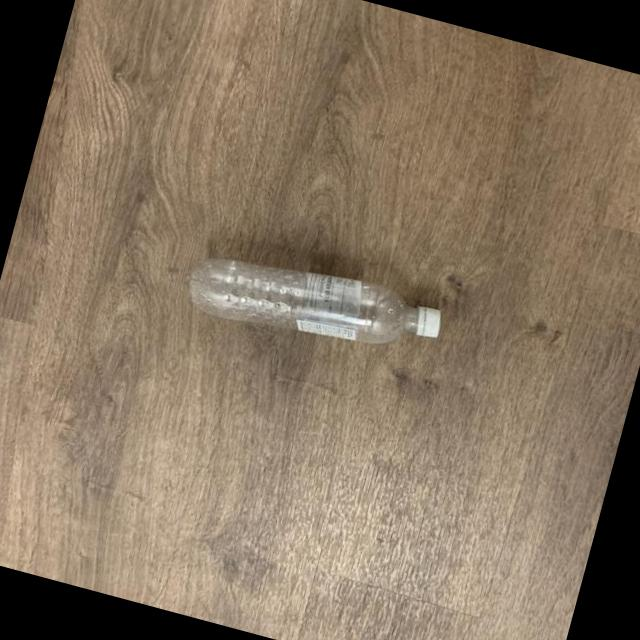BotolPlastik: (179, 235, 449, 375)
